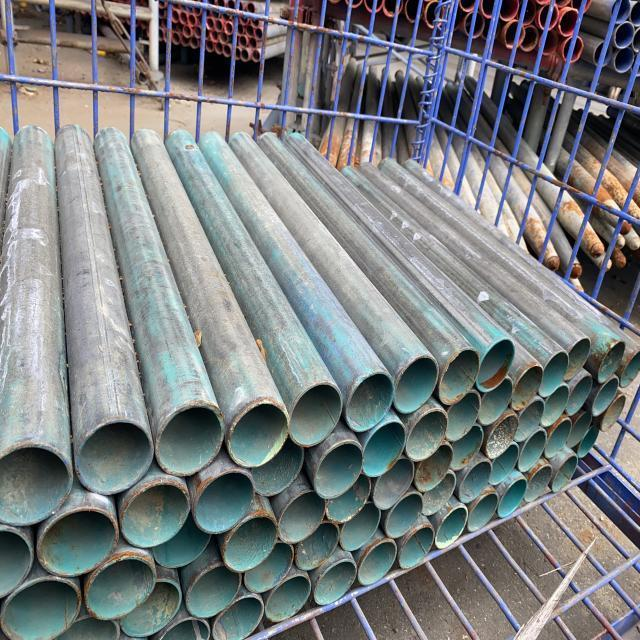pipe: (0, 434, 89, 529), (40, 498, 120, 580), (78, 421, 156, 497), (8, 568, 86, 638), (156, 406, 227, 478), (85, 554, 158, 620), (120, 478, 190, 545), (288, 378, 350, 452), (231, 398, 292, 473), (198, 462, 258, 536), (0, 514, 46, 603), (345, 368, 400, 436), (119, 581, 182, 640), (250, 434, 306, 498), (392, 349, 442, 417), (220, 514, 280, 569), (188, 566, 246, 620), (154, 516, 212, 568), (315, 439, 364, 497), (373, 456, 420, 516), (244, 539, 295, 593), (267, 573, 313, 628), (438, 344, 478, 407), (357, 535, 400, 593), (316, 555, 360, 610), (208, 595, 260, 640), (456, 453, 496, 510), (282, 497, 329, 545), (363, 422, 406, 474), (442, 388, 482, 443), (419, 444, 462, 494), (476, 340, 514, 396), (406, 414, 448, 464), (328, 479, 378, 521), (68, 608, 132, 640), (481, 374, 517, 430), (298, 526, 342, 570), (342, 506, 384, 551), (486, 415, 526, 462), (544, 384, 580, 434), (398, 524, 434, 574), (423, 472, 460, 518), (540, 350, 574, 400), (436, 505, 470, 555), (514, 392, 547, 442), (490, 442, 524, 490), (389, 494, 427, 536), (469, 490, 502, 538), (545, 416, 575, 468), (598, 338, 628, 386), (566, 332, 594, 383), (454, 433, 488, 475), (524, 464, 558, 506), (564, 372, 596, 416), (520, 429, 549, 476), (514, 367, 544, 412), (500, 479, 529, 524), (158, 616, 210, 640), (598, 374, 624, 416), (553, 458, 581, 496), (572, 409, 598, 446), (604, 399, 630, 435), (621, 345, 640, 388), (580, 426, 598, 460)
